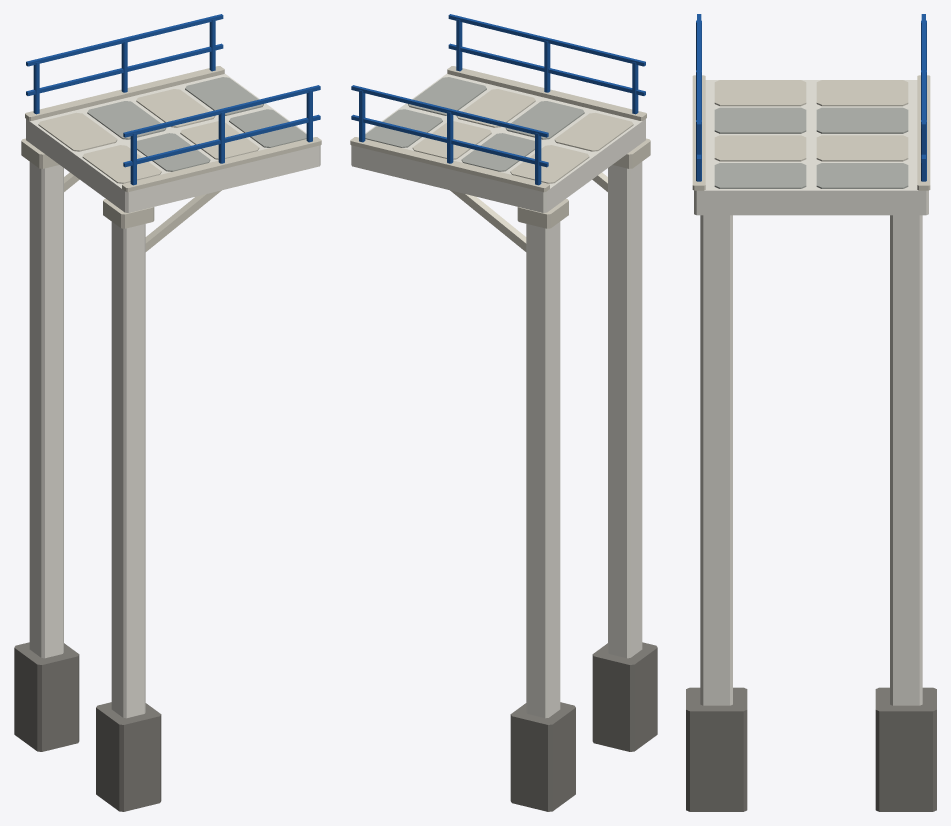
Rendered from pier_bay.glb.
3 renders of one model, left to right at view 1: azimuth 30°, elevation 25°; view 2: azimuth 150°, elevation 25°; view 3: azimuth 270°, elevation 25°, orthographic. The views are drawn at different scales.
Visible parts, largest first — view 1: EXPORT_pier_bay; view 2: EXPORT_pier_bay; view 3: EXPORT_pier_bay.
Boxes of the visible parts, left/top/right/bottom form: EXPORT_pier_bay: left=14, top=14, right=321, bottom=811; EXPORT_pier_bay: left=350, top=14, right=657, bottom=811; EXPORT_pier_bay: left=686, top=14, right=936, bottom=811.
Size of the model in its own units: 4.18 by 13.16 by 3.84.
